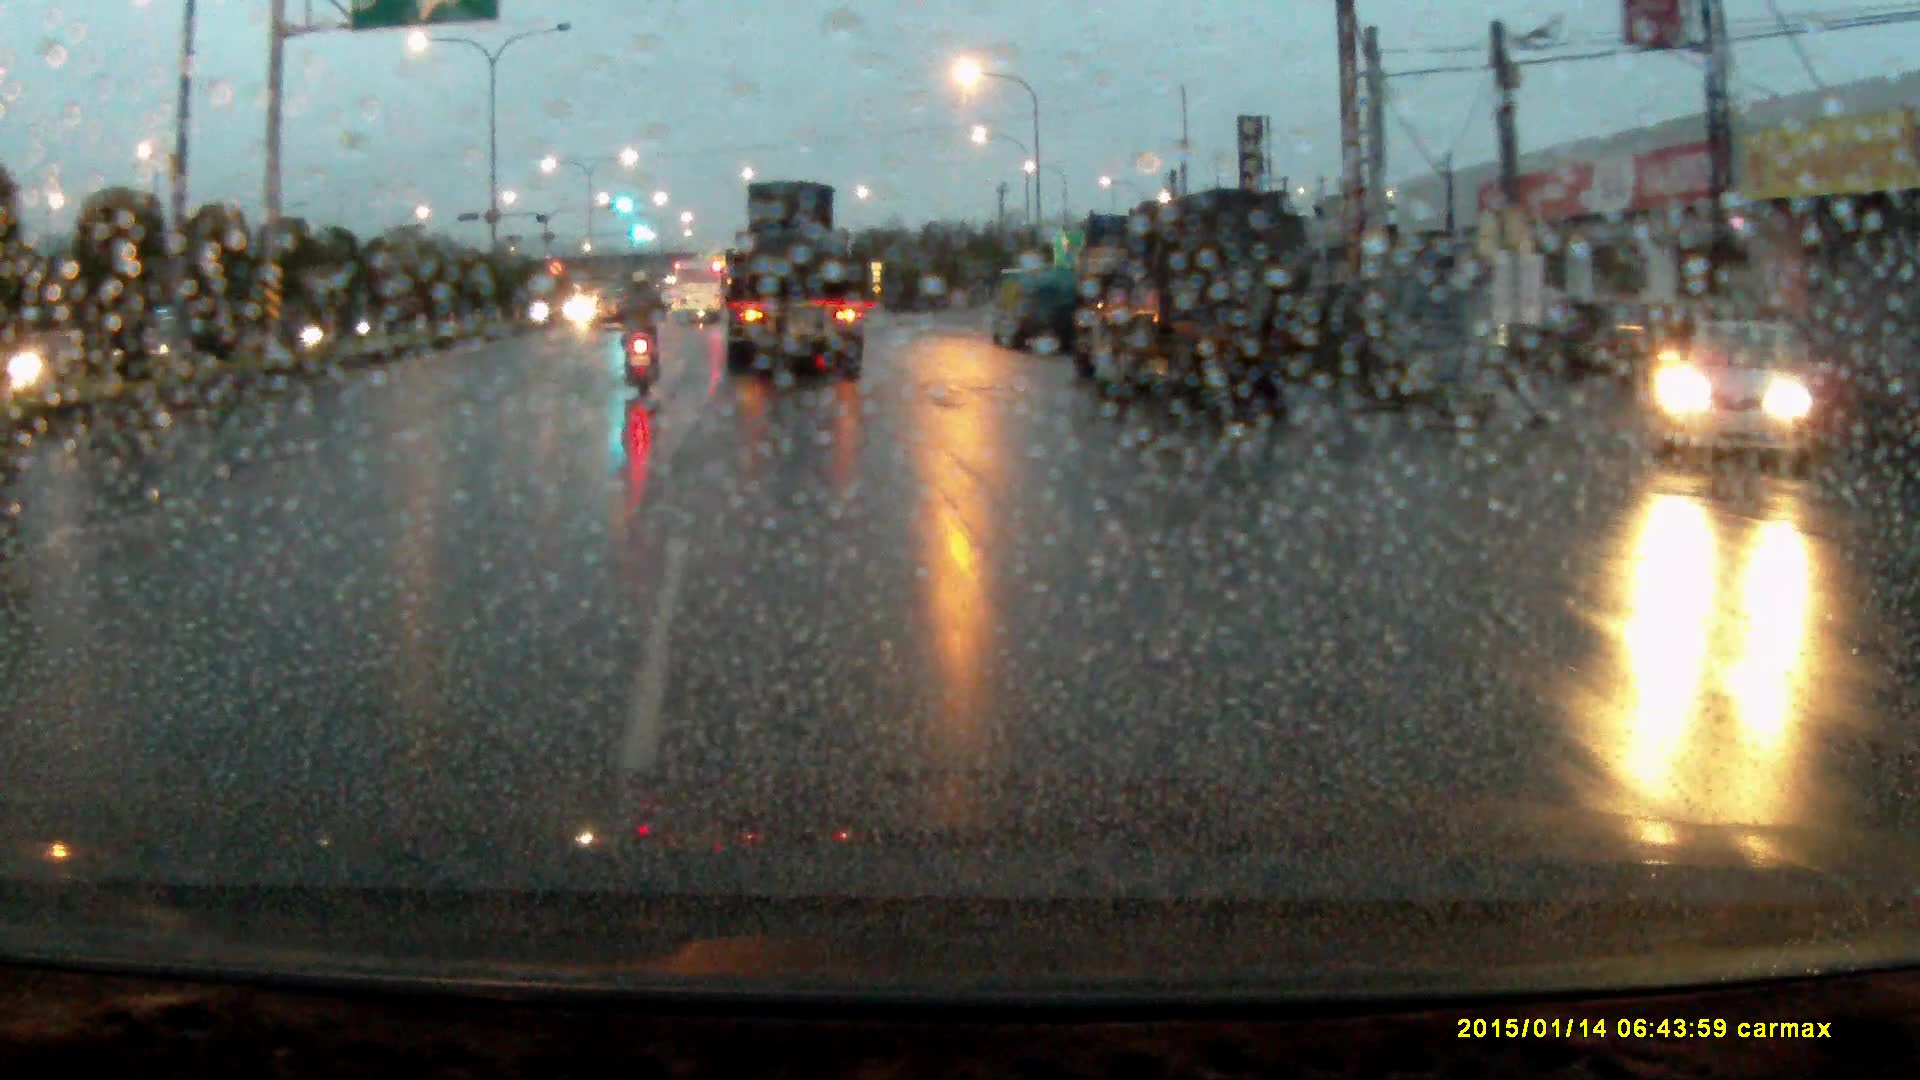rider: (620, 269, 676, 402)
vehicle: (1072, 189, 1323, 422), (1654, 311, 1847, 461), (730, 179, 865, 373), (992, 265, 1086, 348), (672, 259, 725, 323), (593, 285, 644, 332)
